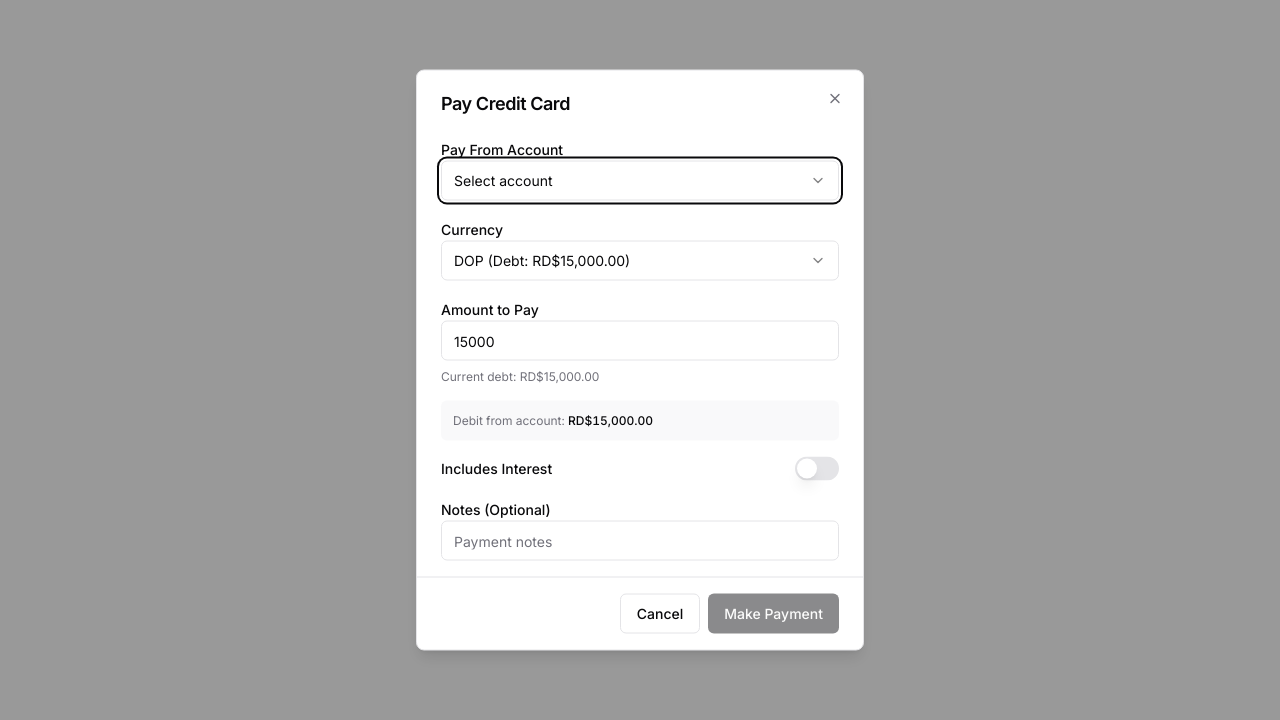
Scenario: PaymentModal › keeps the modal open and shows the backend detail when the payment fails
Click the dropdown labelled "Select account". click: (503, 180)
box: [441,160,839,200]
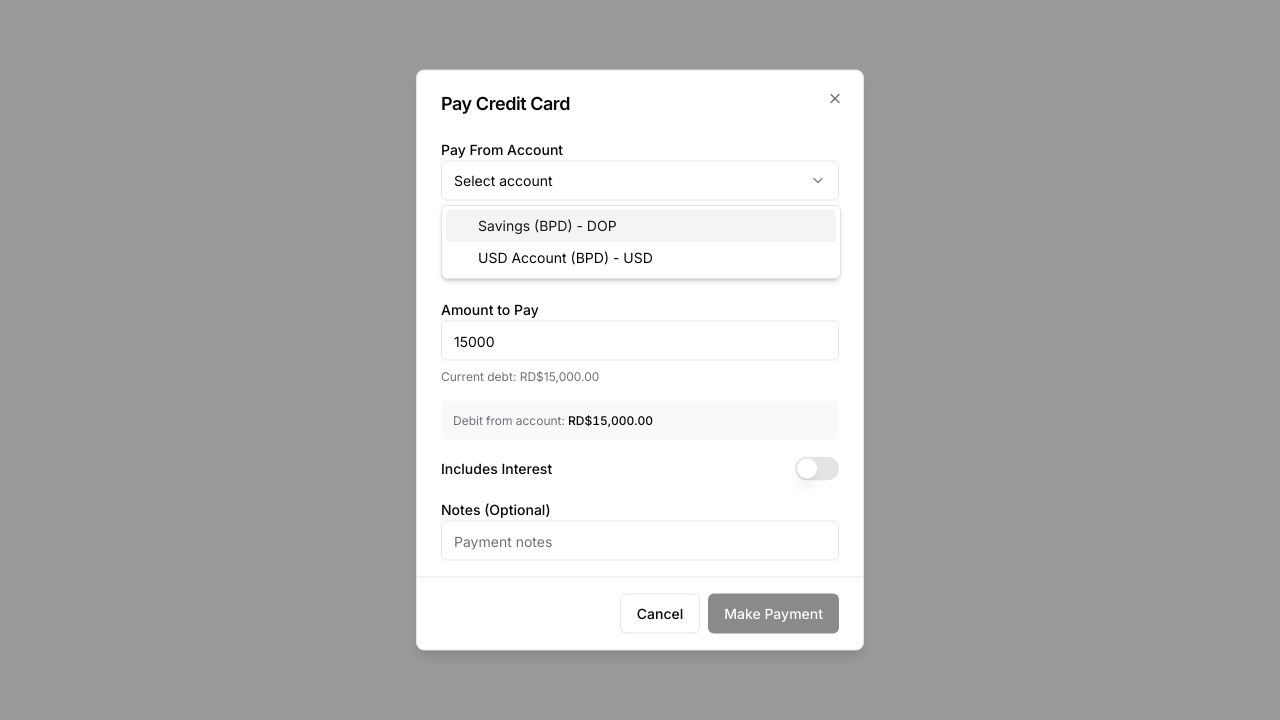
Click the option "Savings (BPD) - DOP". click: (504, 226)
box: [446,210,836,242]
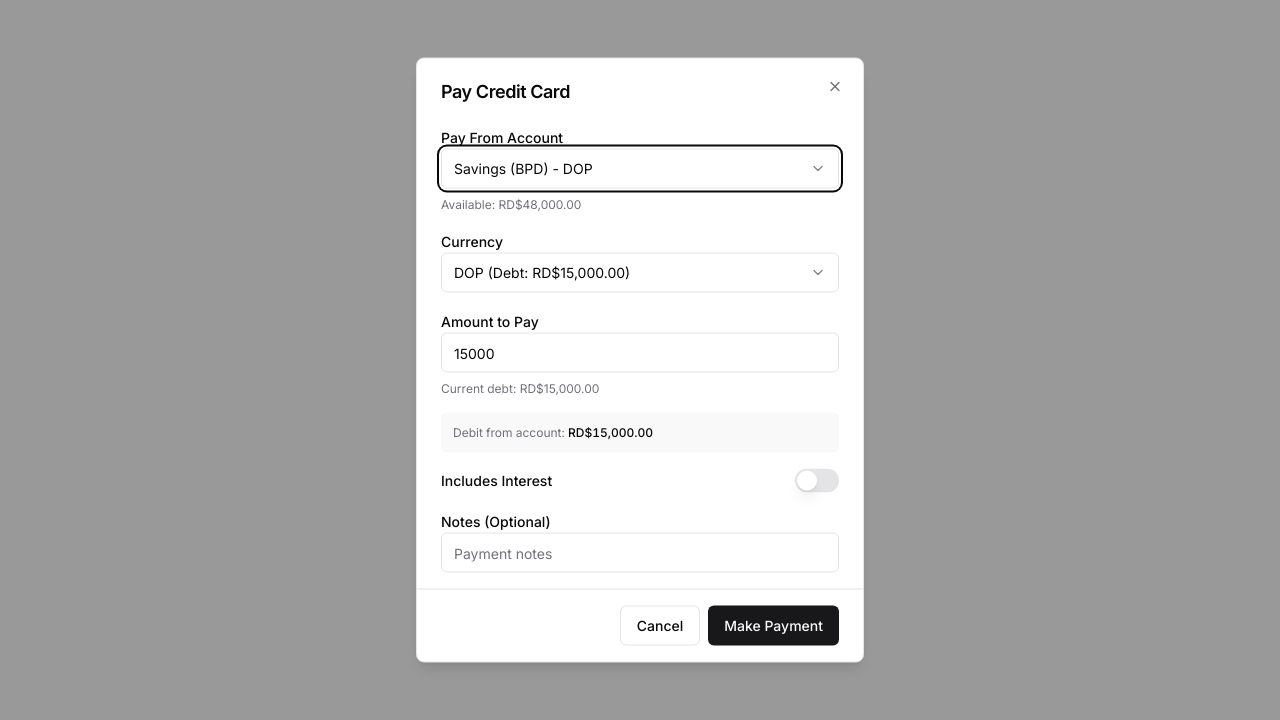
Check: the button "Make Payment" is enabled
Click the button "Make Payment". click: (774, 626)
box: [708,606,839,646]
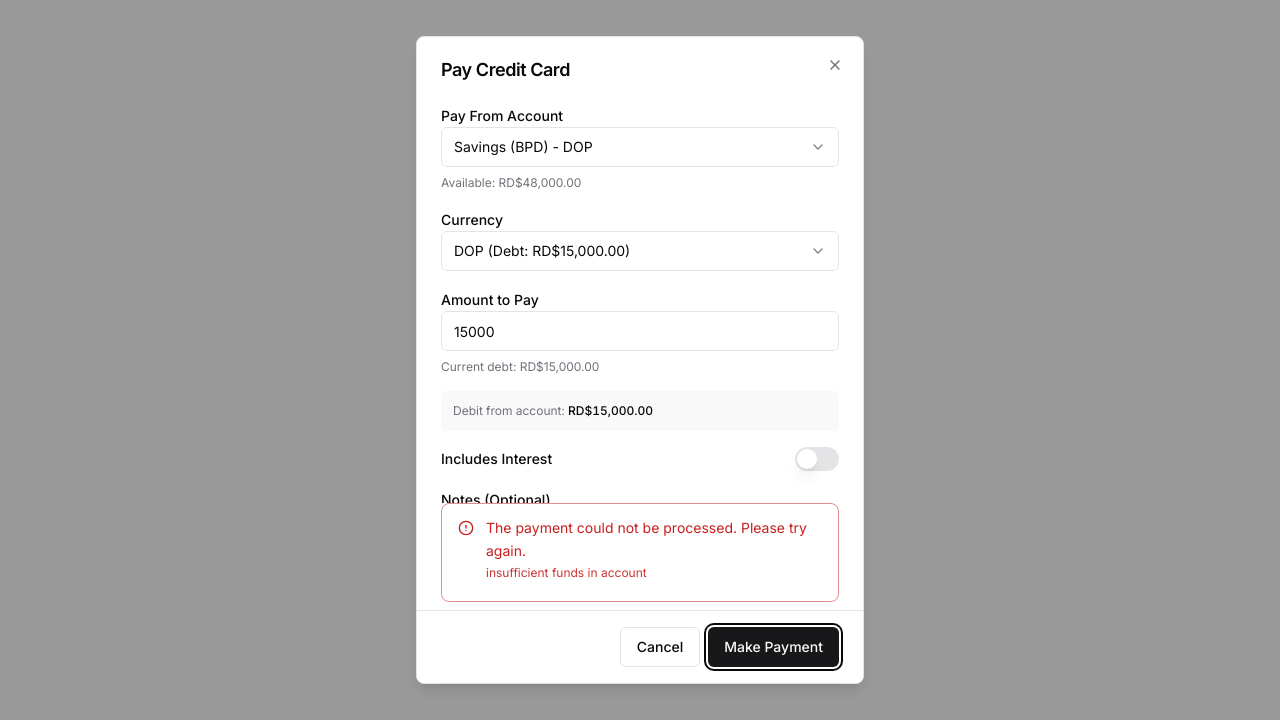
Check: the text "The payment could not be processed. Please try again." is shown, box [486,517,822,562]
Check: the text "insufficient funds in account" is shown, box [486,564,647,580]
